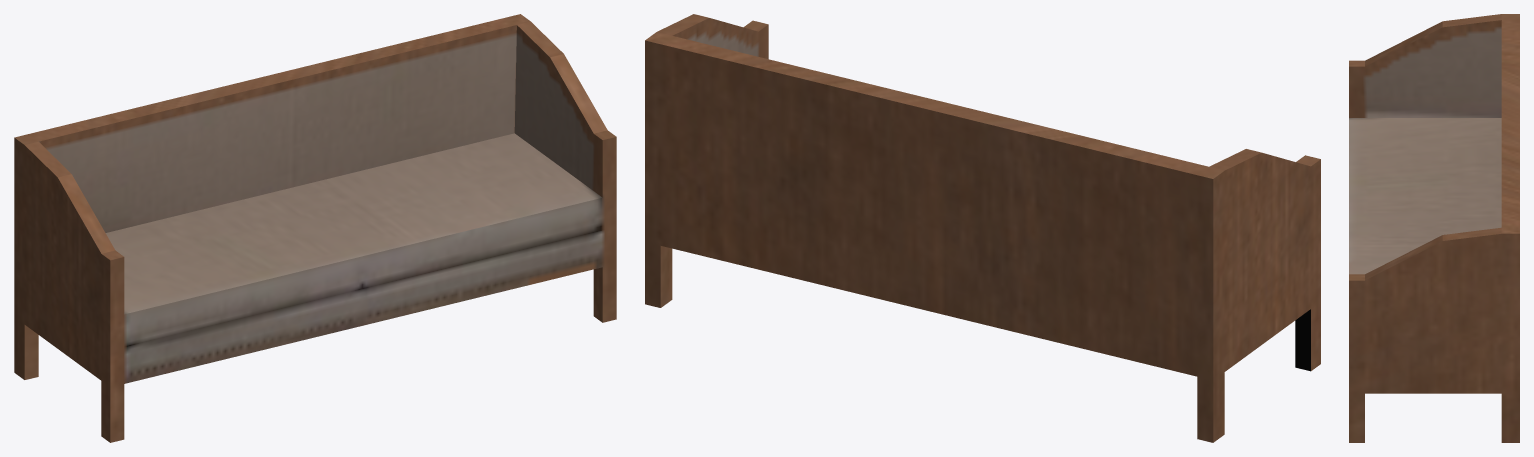
Rendered from sofa_b.glb.
3 renders of one model, left to right at view 1: azimuth 30°, elevation 25°; view 2: azimuth 150°, elevation 25°; view 3: azimuth 270°, elevation 25°, orthographic. The views are drawn at different scales.
Parts seen in each view (by area): view 1: sofa_b; view 2: sofa_b; view 3: sofa_b.
Boxes of the visible parts, left/top/right/bottom form: sofa_b: left=14, top=14, right=616, bottom=442; sofa_b: left=645, top=14, right=1320, bottom=442; sofa_b: left=1349, top=14, right=1519, bottom=442.
Bounding box in the file's own units: 2.22 × 0.9851 × 0.7293.
Materials: 1 (1 with a texture image).
